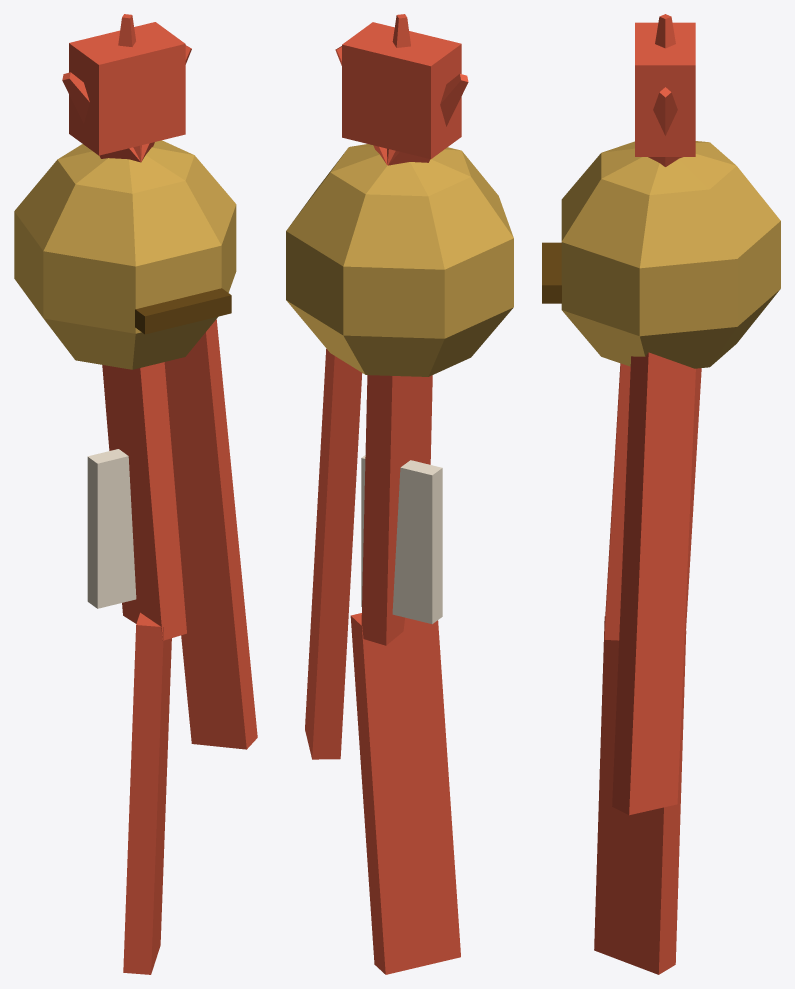
The model's file is gear_norigae_t4_L.glb.
The picture shows the model from 3 angles, left to right: view 1: azimuth 30°, elevation 25°; view 2: azimuth 150°, elevation 25°; view 3: azimuth 270°, elevation 25°; orthographic projection. The views are drawn at different scales.
Visible parts, largest first — view 1: gear_norigae_t4_L; view 2: gear_norigae_t4_L; view 3: gear_norigae_t4_L.
Part boxes in pixels (left/top/right/bottom): gear_norigae_t4_L: left=14, top=14, right=257, bottom=974; gear_norigae_t4_L: left=286, top=14, right=513, bottom=974; gear_norigae_t4_L: left=542, top=14, right=780, bottom=974.
Bounding box in the file's own units: 0.1206 × 0.5149 × 0.1181.
